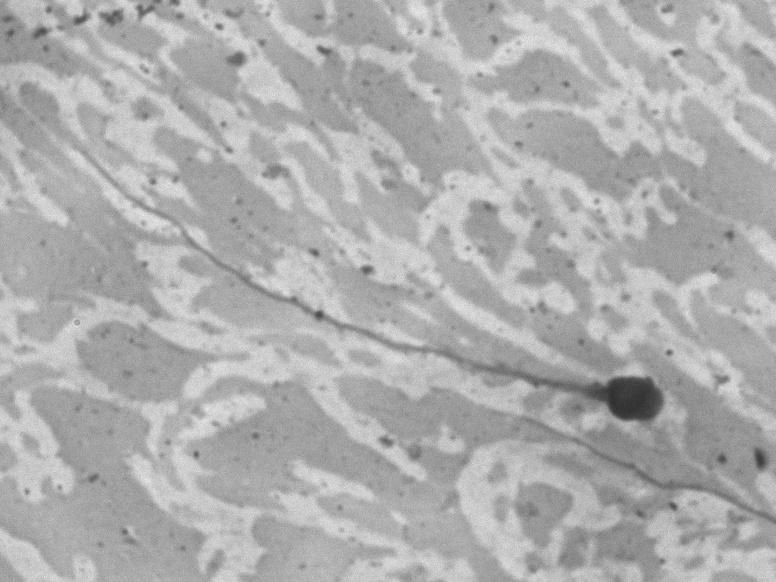Abnormal: (27, 113, 677, 445)
